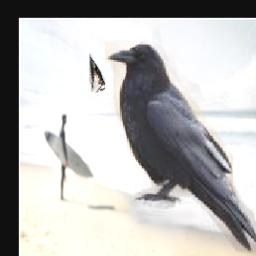Crow: (106, 39, 256, 253)
Woodpecker: (89, 53, 105, 93)
